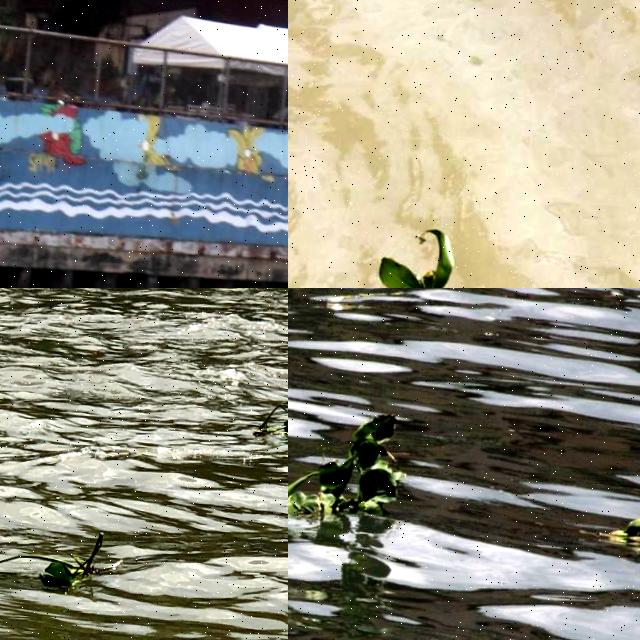water-hyacinth: (289, 407, 405, 528), (1, 525, 119, 594), (608, 475, 640, 562), (248, 402, 289, 444)
